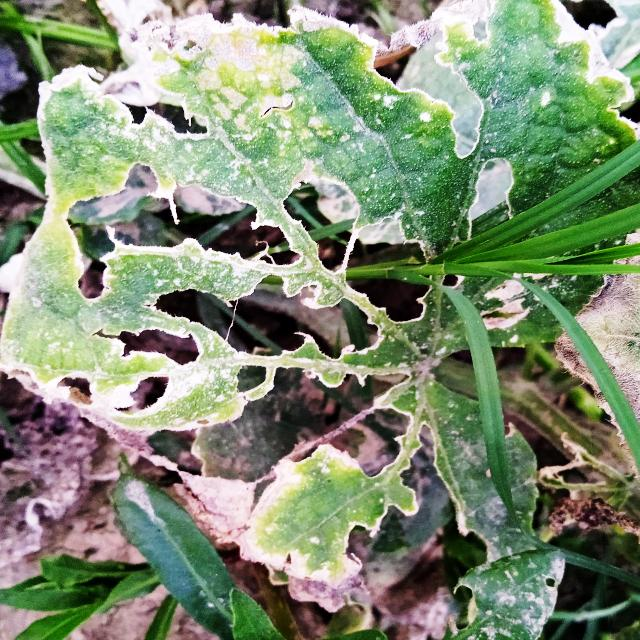Anthracnose: (44, 154, 558, 640), (337, 0, 532, 242)
